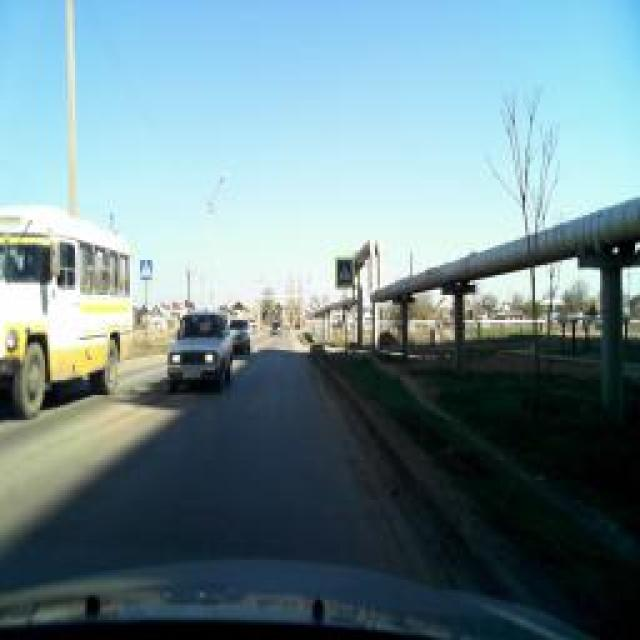sign: (336, 256, 354, 289), (138, 256, 154, 282)
